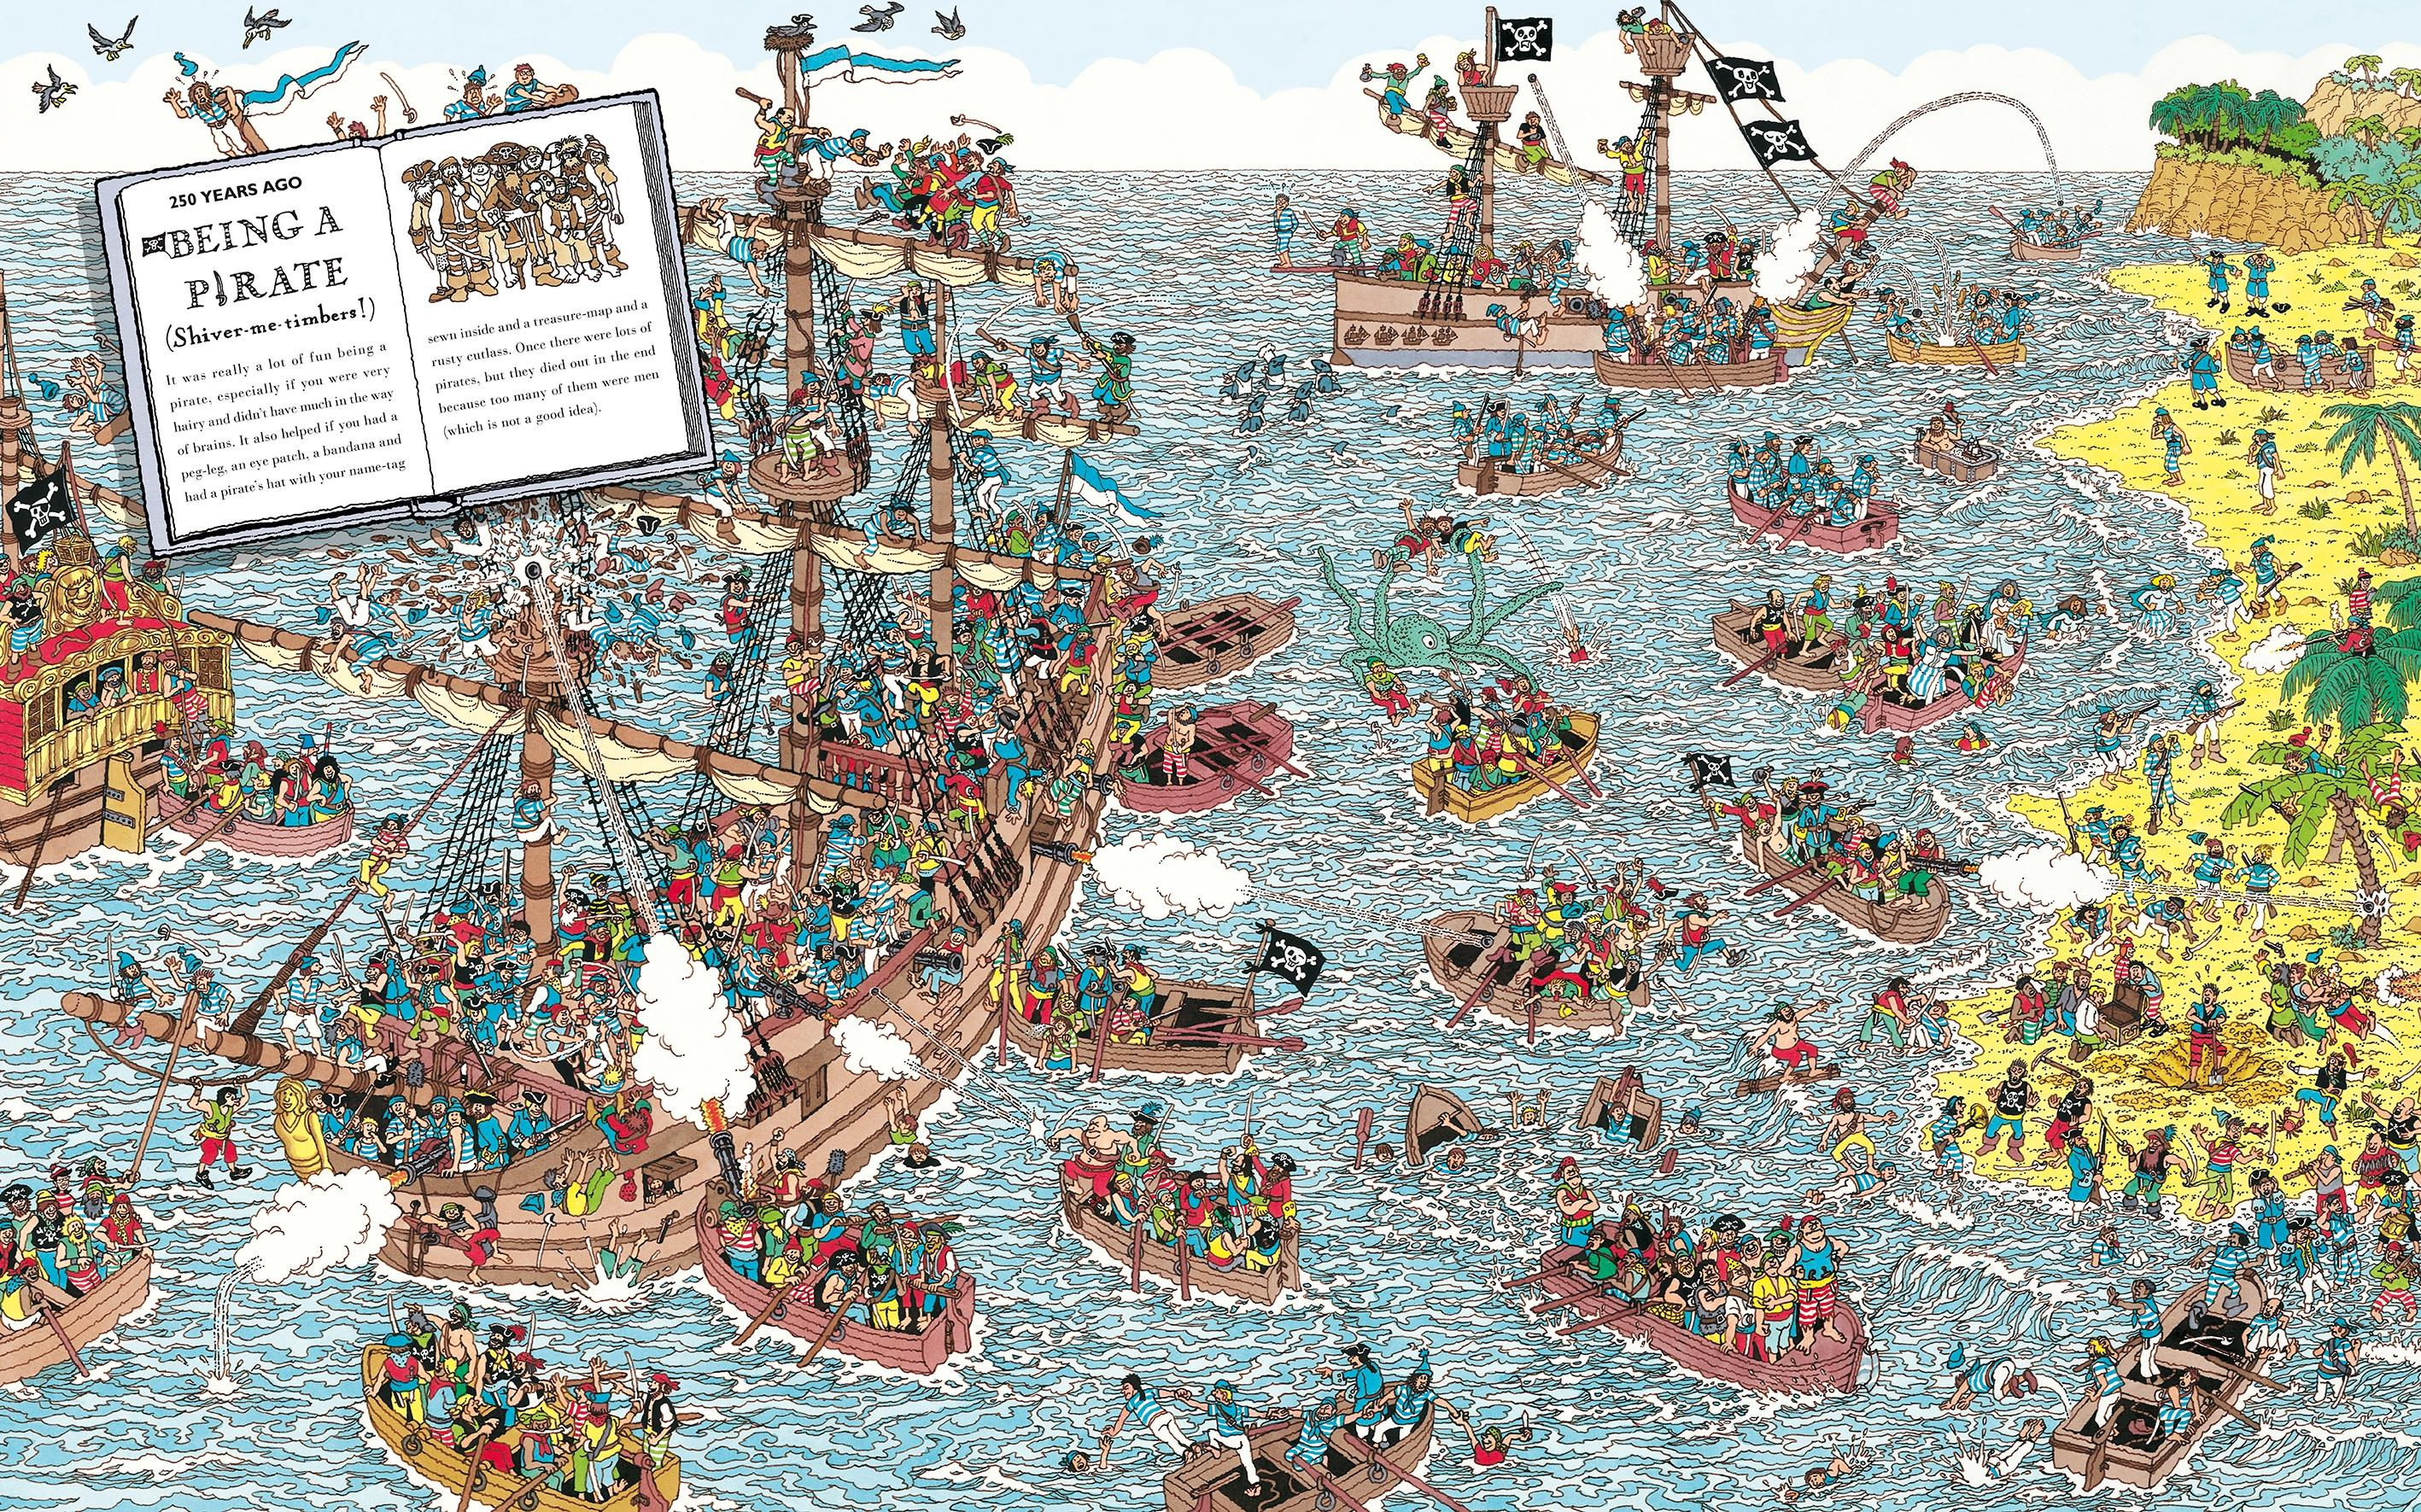waldos: (2348, 566, 2376, 624)
